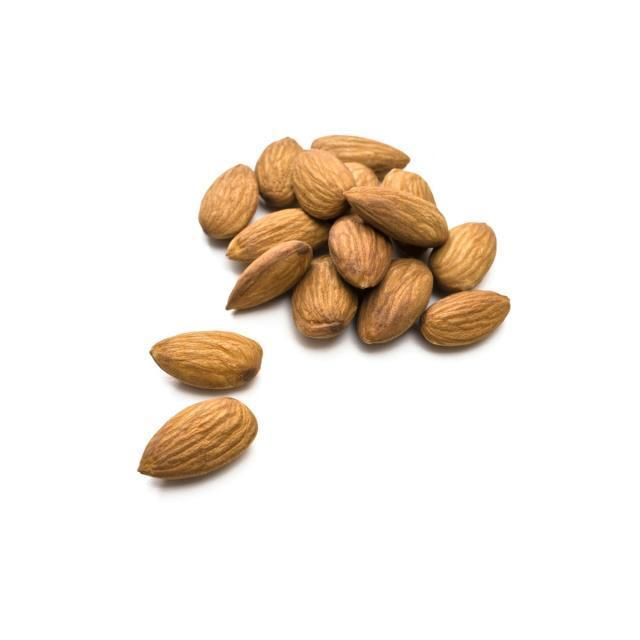almond: (136, 398, 259, 478), (337, 185, 452, 247), (358, 255, 433, 346), (221, 241, 313, 312), (150, 331, 260, 388), (286, 252, 358, 339), (324, 217, 396, 290), (224, 208, 331, 255), (422, 290, 510, 347), (198, 162, 261, 241), (288, 146, 356, 219), (435, 220, 498, 288), (307, 133, 409, 171), (255, 137, 299, 205)
